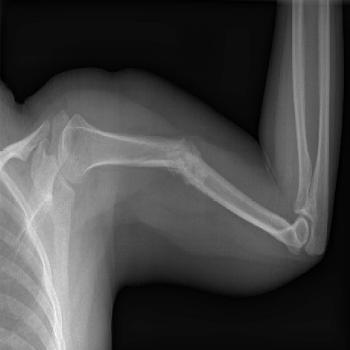Fracture: (158, 133, 208, 186)
